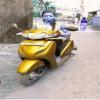motorcycles: (14, 27, 78, 88)
